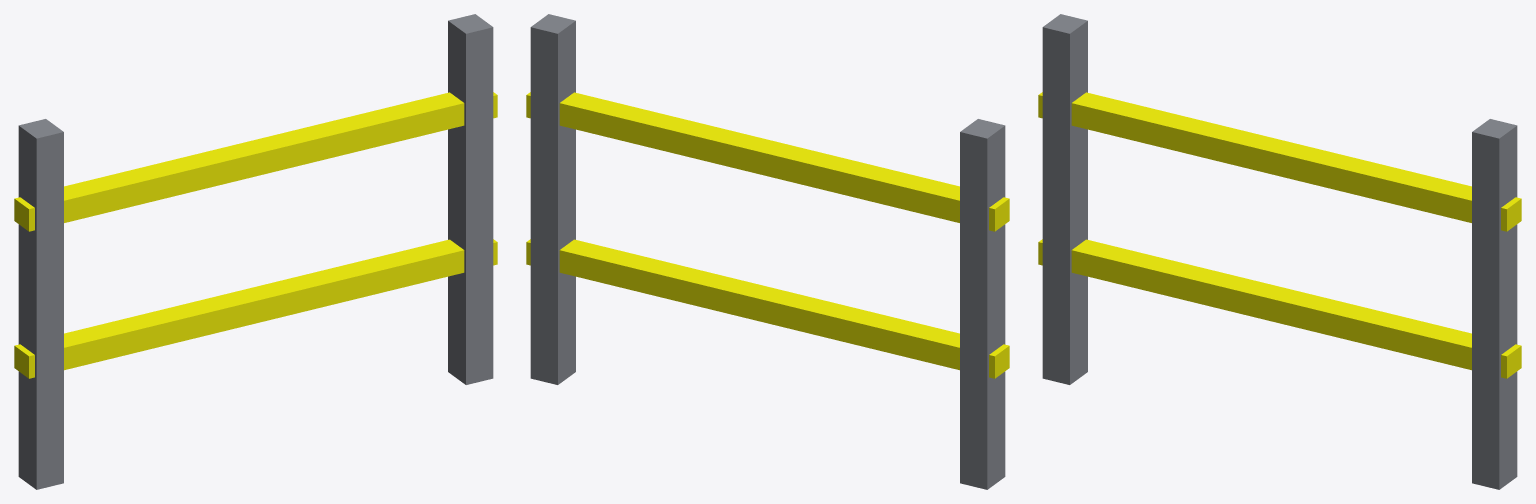
The picture shows the model from 3 angles, left to right: view 1: azimuth 30°, elevation 25°; view 2: azimuth 150°, elevation 25°; view 3: azimuth 330°, elevation 25°; orthographic projection.
Visible parts, largest first — view 1: Fence post, Fence post.001, Fence beam.001, Fence beam; view 2: Fence post, Fence post.001, Fence beam.001, Fence beam; view 3: Fence post.001, Fence post, Fence beam.001, Fence beam.
Part boxes in pixels (left/top/right/bottom): Fence post: left=18, top=119, right=63, bottom=489; Fence post.001: left=448, top=14, right=493, bottom=384; Fence beam.001: left=14, top=92, right=497, bottom=231; Fence beam: left=14, top=239, right=497, bottom=378; Fence post: left=960, top=119, right=1005, bottom=489; Fence post.001: left=530, top=14, right=575, bottom=384; Fence beam.001: left=526, top=92, right=1009, bottom=231; Fence beam: left=526, top=239, right=1009, bottom=378; Fence post.001: left=1472, top=119, right=1517, bottom=489; Fence post: left=1042, top=14, right=1087, bottom=384; Fence beam.001: left=1038, top=92, right=1521, bottom=231; Fence beam: left=1038, top=239, right=1521, bottom=378.
Size of the model in its own units: 1.2 by 0.86 by 0.08.
Materials: 1 (1 with a texture image).
